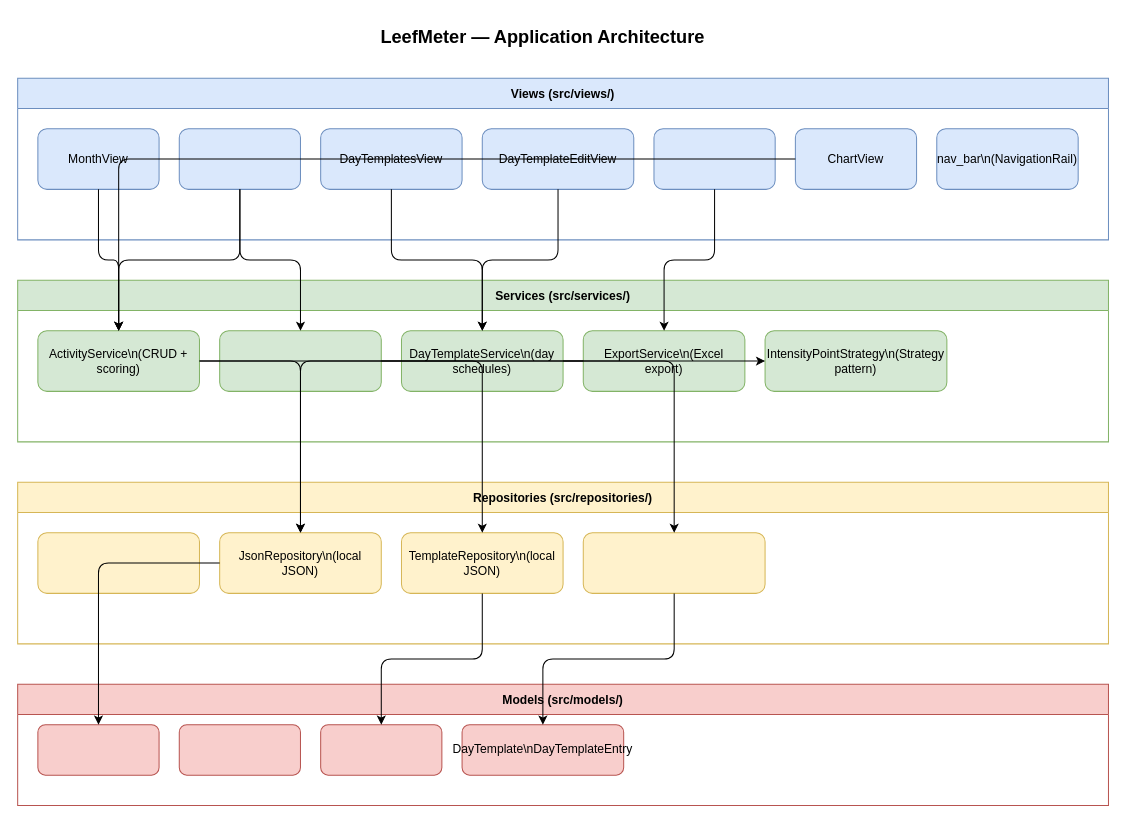
The diagram is 1126 pixels wide and 823 high, and some of its shapes have lost their labels. The shapes that lost their labels are listed below. From the top down, each one's centre as x and y in pixels, then its label:
At pixel 239 158: "DayView".
At pixel 714 158: "ExportView".
At pixel 300 360: "TemplateService\n(activity definitions)".
At pixel 118 562: "ActivityRepository\n(ABC)".
At pixel 673 562: "DayTemplateRepository\n(local JSON)".
At pixel 98 749: "Activity".
At pixel 239 749: "Day".
At pixel 381 749: "Template".
